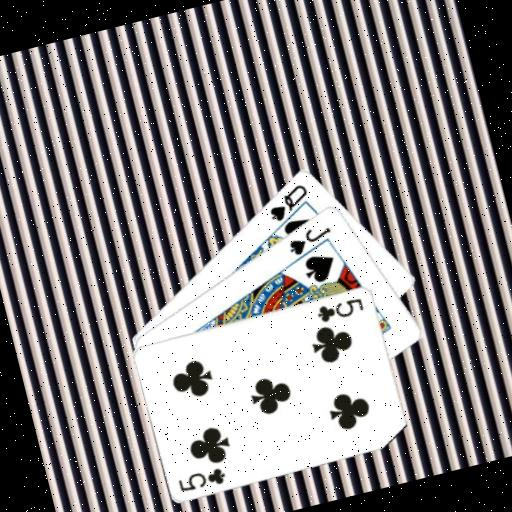5C: (175, 462, 230, 496), (313, 293, 367, 325)
JS: (283, 220, 337, 259)
QS: (261, 179, 315, 225)
